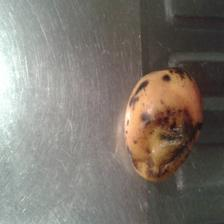Mango Rotten: (126, 61, 201, 183)
